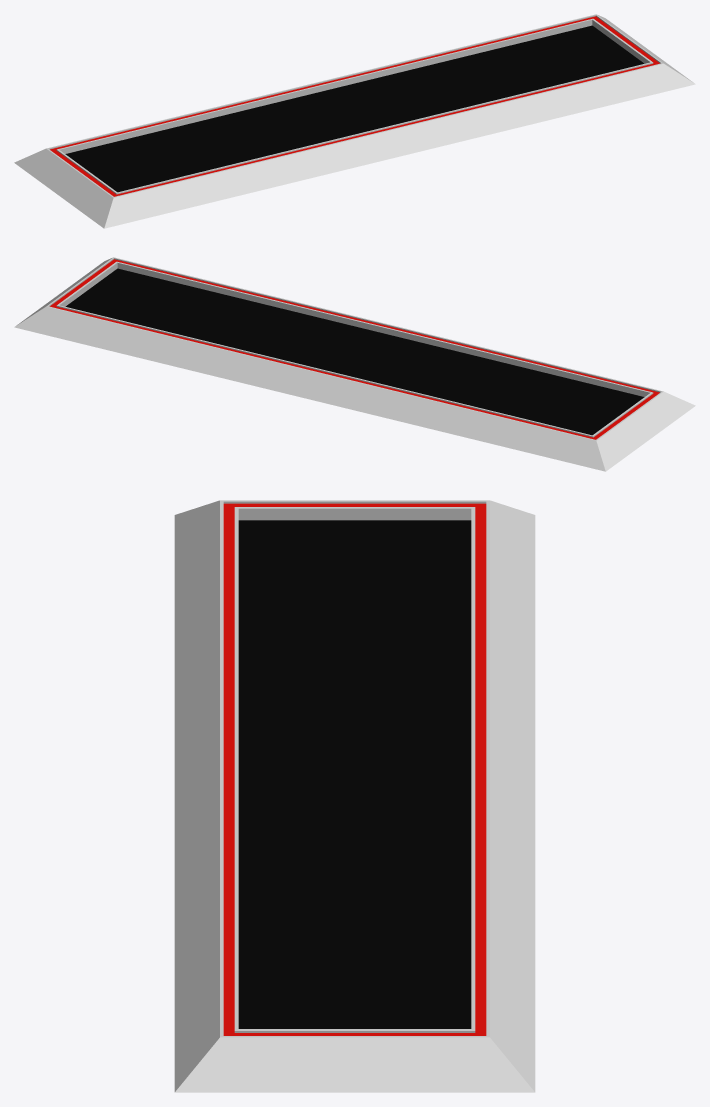
File: CajaFuerte_Pantalla.fbx
The picture shows the model from 3 angles, top to bottom: view 1: azimuth 30°, elevation 25°; view 2: azimuth 150°, elevation 25°; view 3: azimuth 270°, elevation 25°; orthographic projection. The views are drawn at different scales.
Visible parts, largest first — view 1: Caja_Fuerte_Pantalla; view 2: Caja_Fuerte_Pantalla; view 3: Caja_Fuerte_Pantalla.
Boxes of the visible parts, x1=… form: Caja_Fuerte_Pantalla: x1=14, y1=14, x2=695, y2=228; Caja_Fuerte_Pantalla: x1=14, y1=257, x2=695, y2=471; Caja_Fuerte_Pantalla: x1=174, y1=500, x2=535, y2=1092.
Size of what is drawn, in the model's own units: 14.57 by 0.4117 by 3.85.
